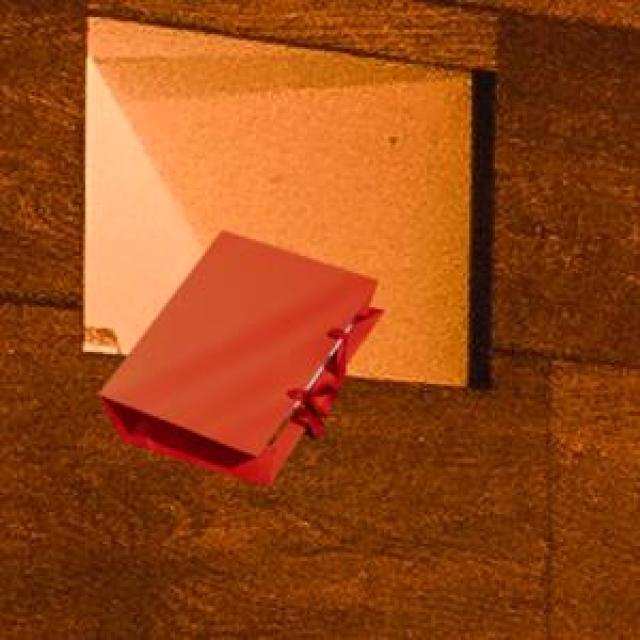Paper_Bag: (97, 227, 381, 483)
